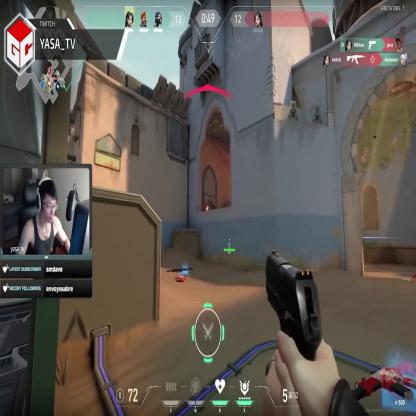enemy: (205, 204, 209, 225)
enemy_head: (205, 205, 209, 211)
